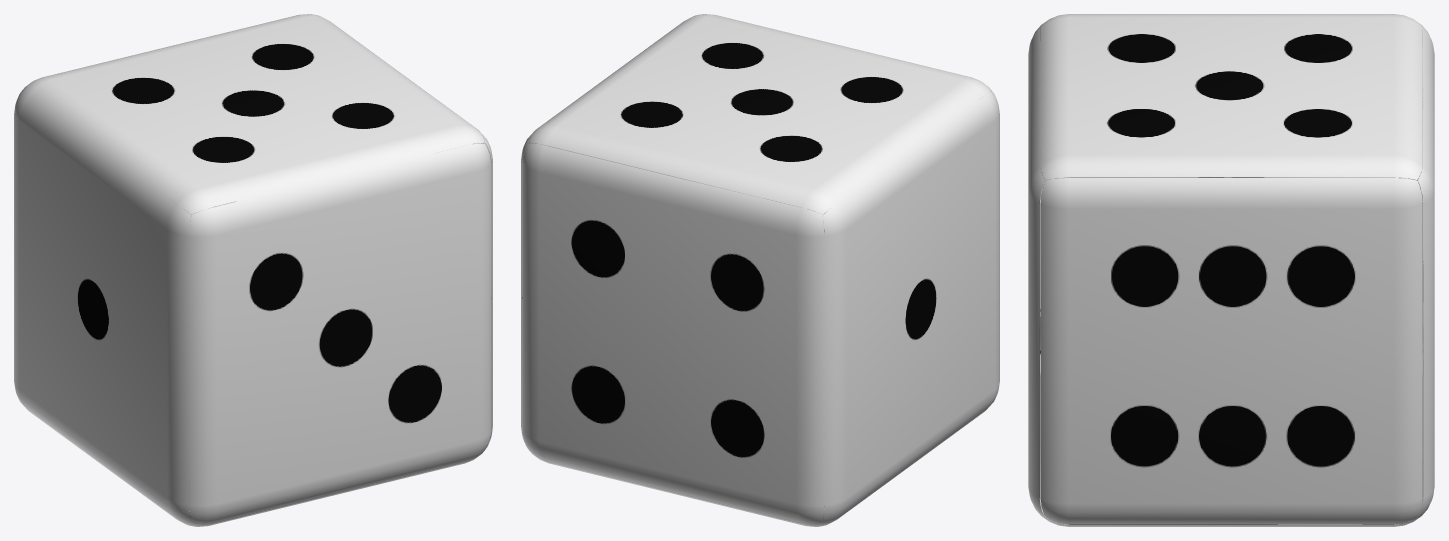
The model's file is dice.dae.
3 views of the same model, side by side, from view 1: azimuth 30°, elevation 25°; view 2: azimuth 150°, elevation 25°; view 3: azimuth 270°, elevation 25° (orthographic). The views are drawn at different scales.
Parts seen in each view (by area): view 1: Cube; view 2: Cube; view 3: Cube.
Boxes of the visible parts, x1=… form: Cube: x1=14, y1=14, x2=492, y2=526; Cube: x1=521, y1=14, x2=999, y2=526; Cube: x1=1028, y1=14, x2=1434, y2=526.
Size of the model in its own units: 1 by 1 by 1.
Materials: 1 (1 with a texture image).
